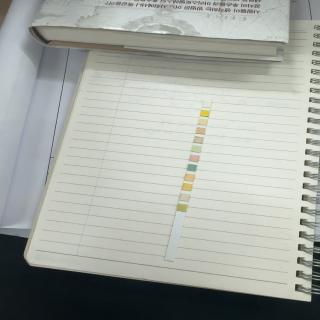mark: (180, 194, 190, 202), (187, 164, 197, 172), (189, 154, 199, 162), (178, 203, 187, 211), (182, 184, 192, 190), (195, 136, 202, 144), (203, 101, 211, 108), (185, 174, 194, 180), (192, 146, 201, 152), (200, 110, 209, 116), (197, 128, 205, 134), (198, 120, 206, 126)
